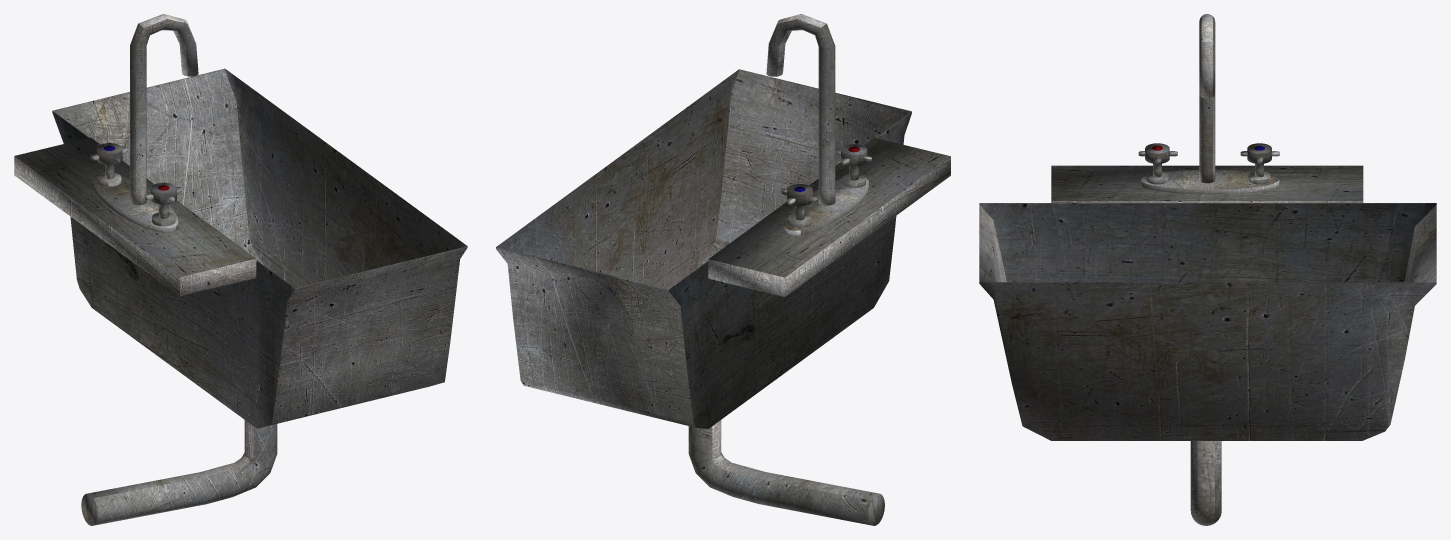
File: sink.fbx
The picture shows the model from 3 angles, left to right: view 1: azimuth 30°, elevation 25°; view 2: azimuth 150°, elevation 25°; view 3: azimuth 270°, elevation 25°; orthographic projection. The views are drawn at different scales.
Visible parts, largest first — view 1: Cube, Cylinder.002, Cylinder.014, Cylinder.015; view 2: Cube, Cylinder.002, Cylinder.015, Cylinder.014; view 3: Cube, Cylinder.002, Cylinder.014, Cylinder.015.
Boxes of the visible parts, box(x1,y1,x2,y2) form: Cube: box(14, 68, 467, 525); Cylinder.002: box(93, 14, 198, 233); Cylinder.014: box(90, 143, 127, 186); Cylinder.015: box(145, 182, 181, 226); Cube: box(496, 69, 950, 525); Cylinder.002: box(766, 14, 868, 235); Cylinder.015: box(835, 144, 871, 187); Cylinder.014: box(781, 184, 817, 227); Cube: box(979, 165, 1436, 525); Cylinder.002: box(1141, 14, 1279, 194); Cylinder.014: box(1240, 143, 1279, 184); Cylinder.015: box(1138, 143, 1177, 184).
Bounding box in the file's own units: 229 × 421 × 373.
Materials: 4 (1 with a texture image).
